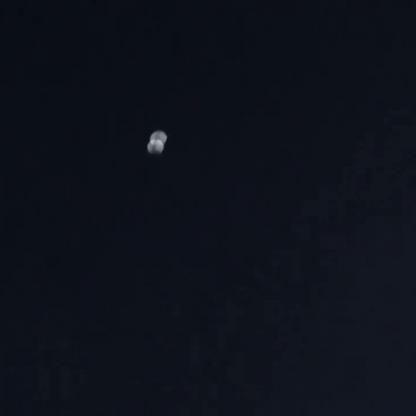ball: (142, 138, 168, 160), (147, 125, 174, 141)
